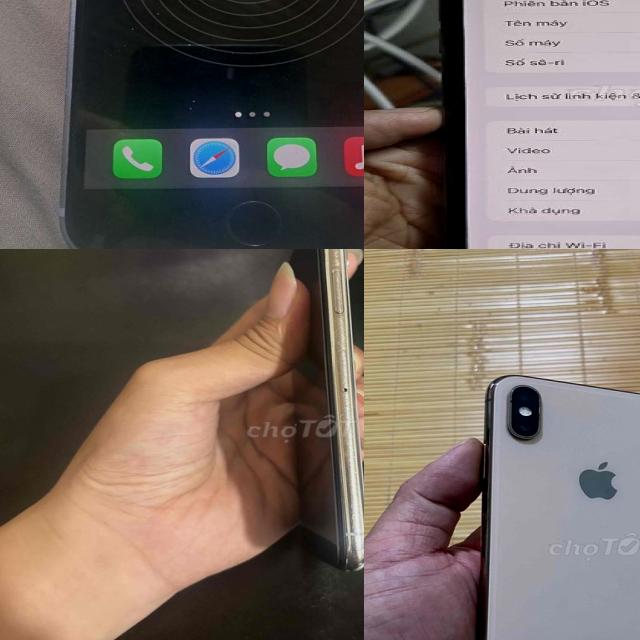gen_7_8: (49, 0, 364, 249)
gen_x_xs: (443, 0, 640, 249), (484, 370, 640, 640), (283, 249, 364, 573)
scratch: (315, 249, 364, 569), (94, 0, 198, 51), (180, 92, 200, 114)
